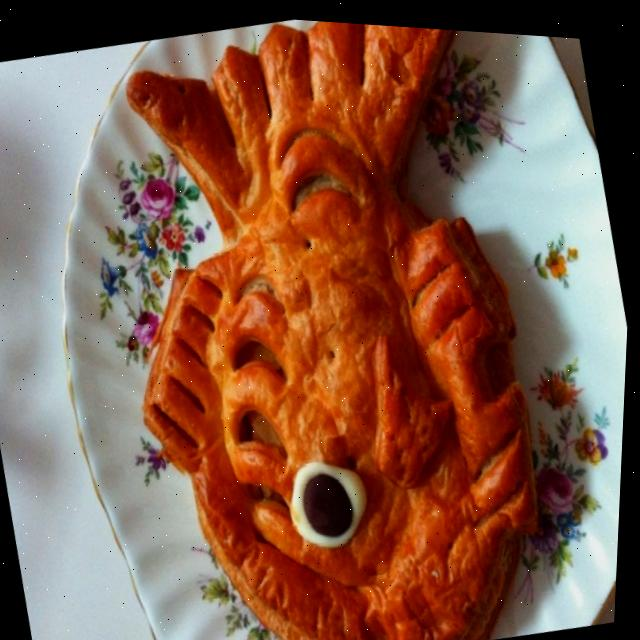炸货点心: (32, 3, 640, 640)
蛋糕甜品: (32, 3, 640, 640)
